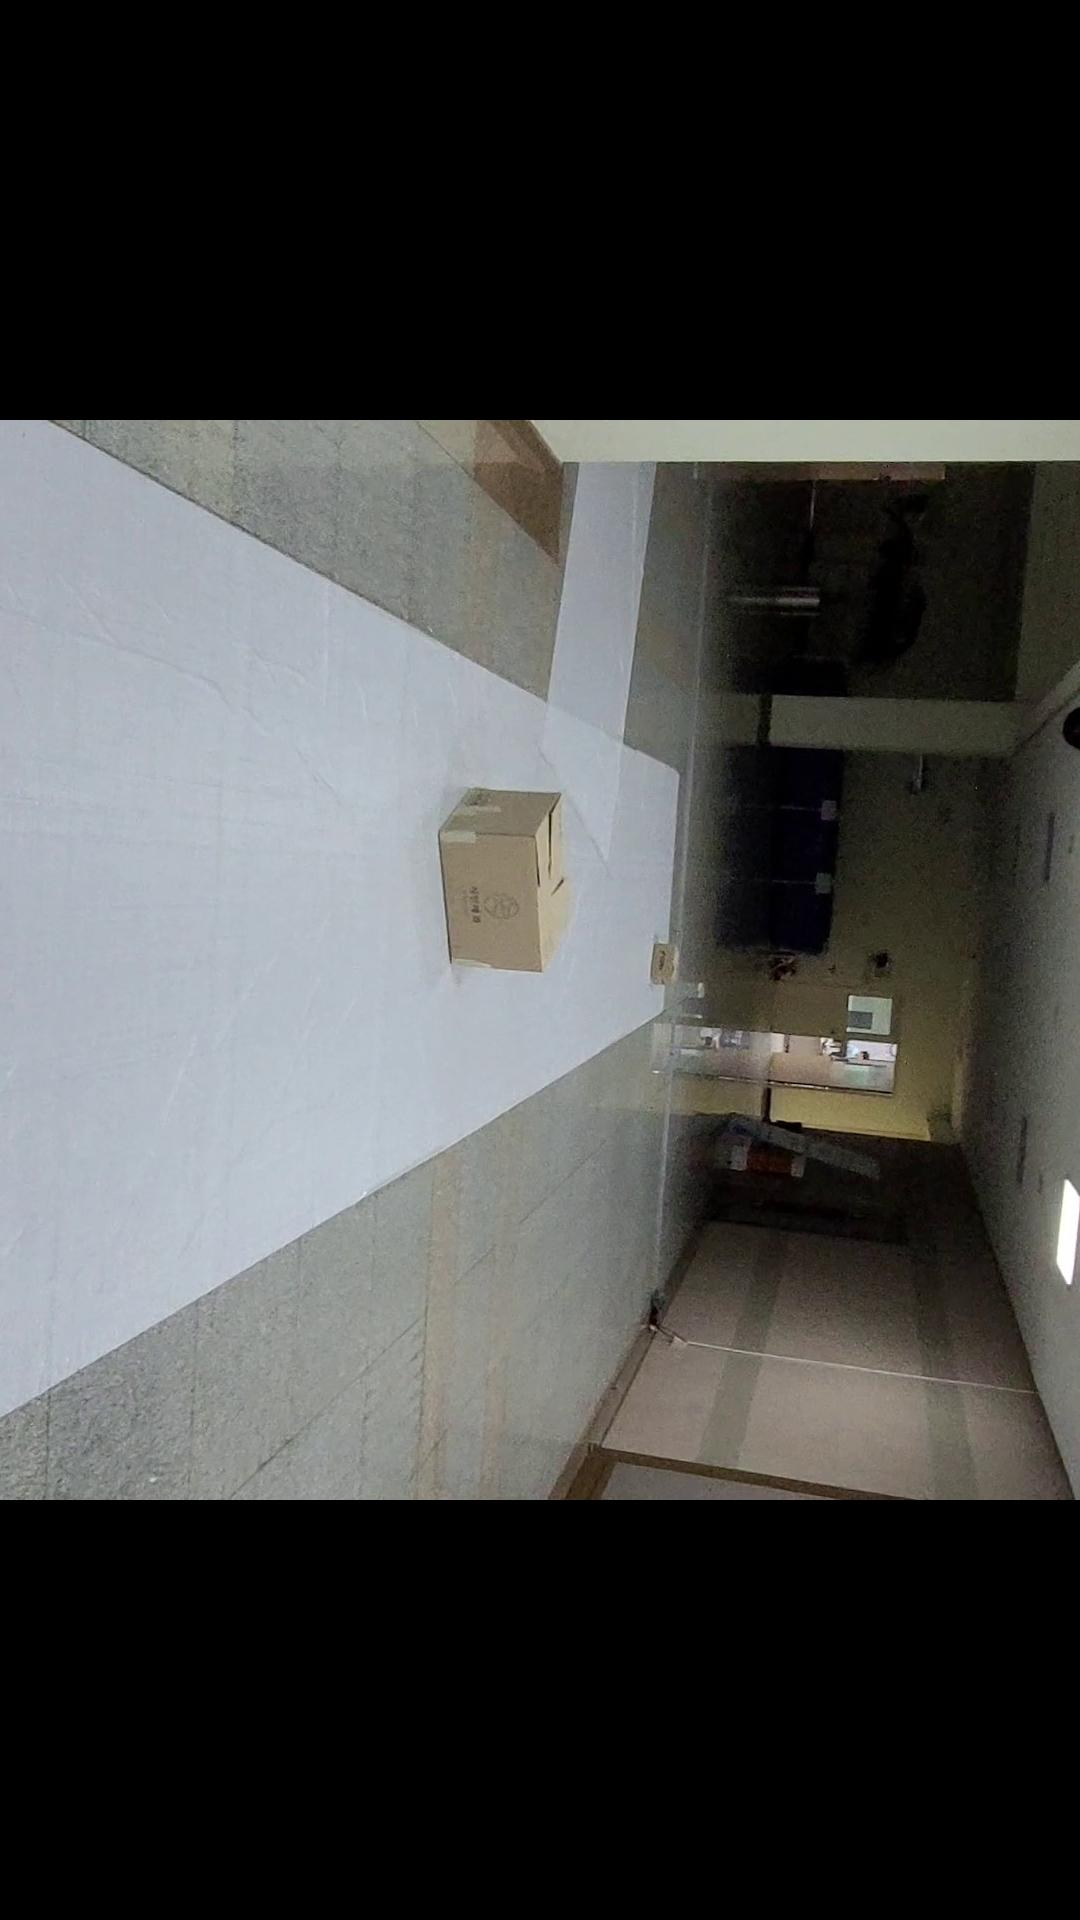Box: (427, 775, 592, 996), (650, 931, 690, 996)
